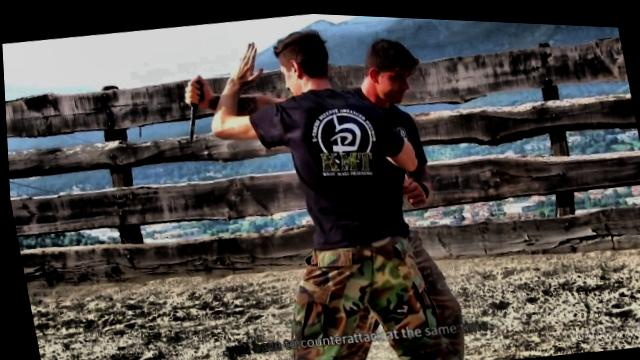knife: (169, 67, 214, 147)
